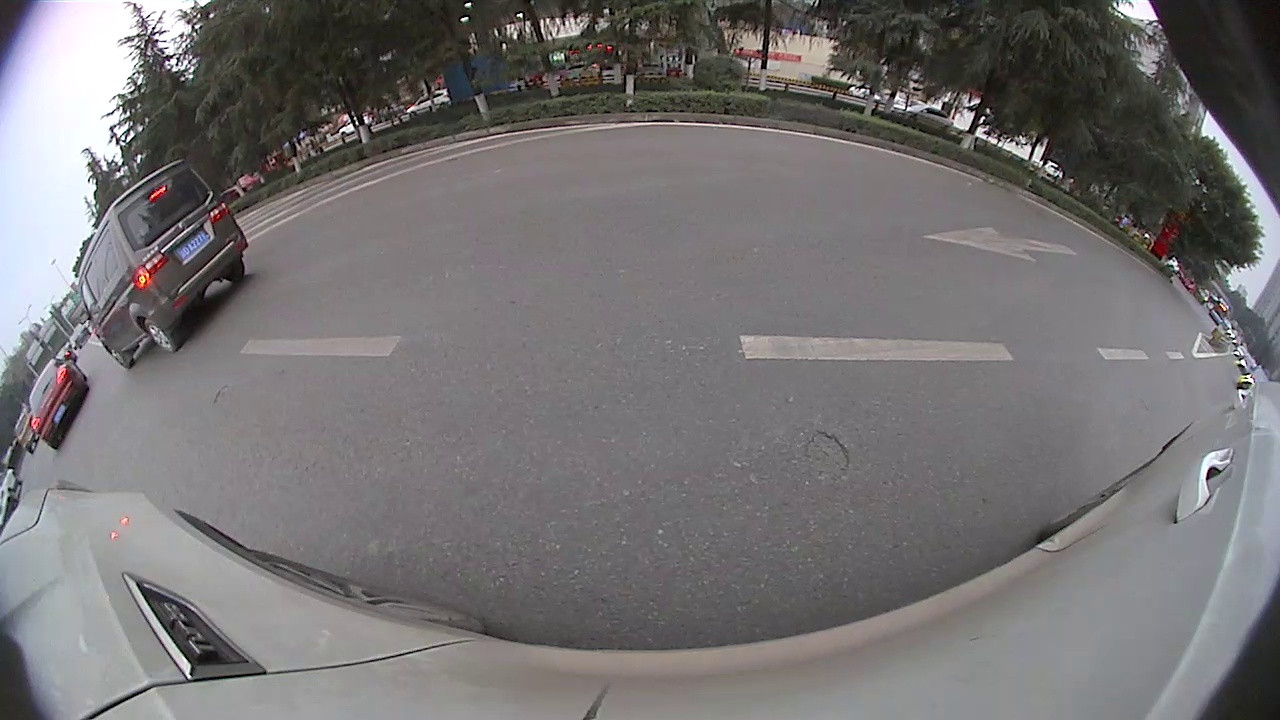car: (74, 153, 249, 370), (22, 354, 90, 450)
front: (102, 341, 133, 368)
rear: (142, 316, 178, 356)
